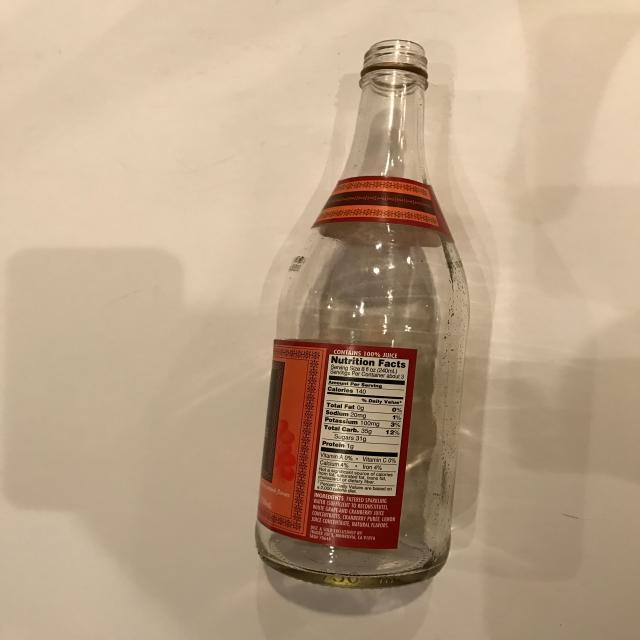glass: (254, 39, 474, 588)
